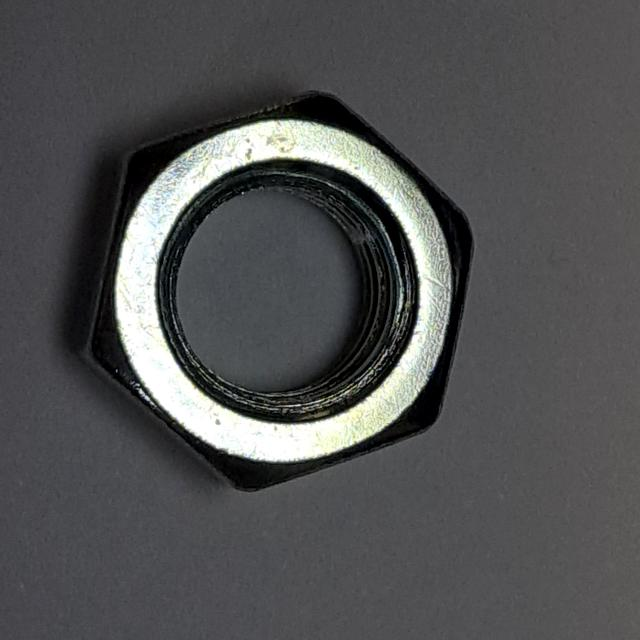Excellent: (64, 68, 489, 515)
